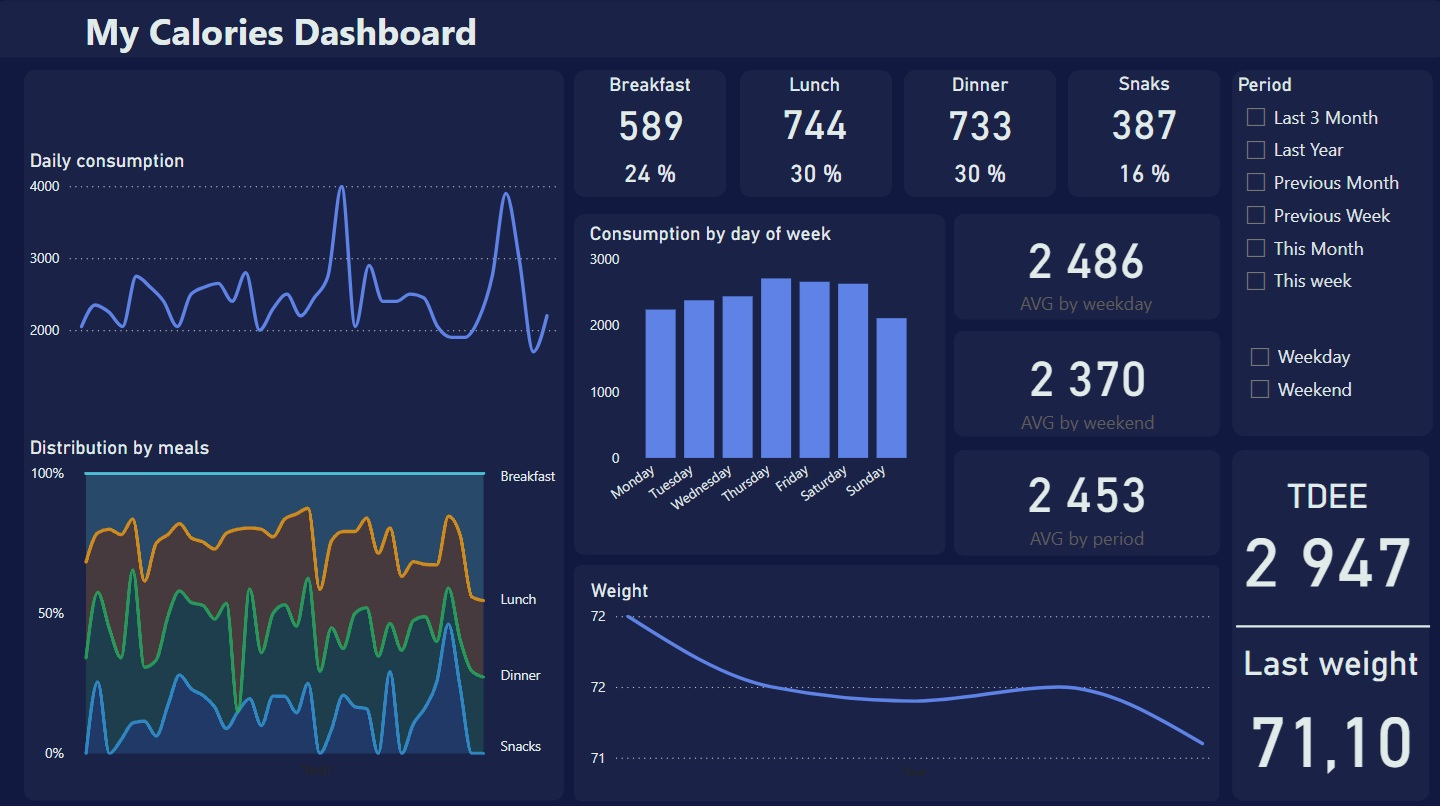

Layout of this report page (visuals, bound fields, positions):
{"tool":"powerbi","page":{"name":"Calories dashboard","canvas":[1280,720],"ordinal":0},"visuals":[{"type":"shape","box":[847.6,399.1,235.8,93.7],"z":0},{"type":"shape","box":[23.2,62.5,478.7,648.1],"z":1000},{"type":"shape","box":[1094.6,62.5,178.4,324.5],"z":2000},{"type":"shape","box":[511,189.5,329.6,302.4],"z":3000},{"type":"shape","box":[1094.6,399.1,175.4,311.4],"z":4000},{"type":"shape","box":[0,0,1280,51.4],"z":5000},{"type":"shape","box":[511,500.9,572.5,209.6],"z":6000},{"type":"shape","box":[847.6,189.5,235.8,93.7],"z":7000},{"type":"shape","box":[847.6,293.3,235.8,93.7],"z":8000},{"type":"shape","box":[948.4,62.5,135.1,112.9],"z":9000},{"type":"shape","box":[803.3,62.5,135.1,112.9],"z":10000},{"type":"shape","box":[658.1,62.5,135.1,112.9],"z":11000},{"type":"shape","box":[511,62.5,135.1,112.9],"z":12000},{"type":"lineChart","title":"Daily consumption","fields":{"Y":["Sum(Calories.daily_consumption)"],"Category":["Calendar.Date.Variation.Date Hierarchy.Year","Calendar.Date.Variation.Date Hierarchy.Quarter","Calendar.Date.Variation.Date Hierarchy.Month","Calendar.Date.Variation.Date Hierarchy.Day"]},"box":[23.2,132,478.7,198.6],"z":13000},{"type":"hundredPercentStackedAreaChart","title":"Distribution by meals","fields":{"Category":["Calendar.Date.Variation.Date Hierarchy.Year","Calendar.Date.Variation.Date Hierarchy.Quarter","Calendar.Date.Variation.Date Hierarchy.Month","Calendar.Date.Variation.Date Hierarchy.Day"],"Y":["Sum(Calories.snacks)","Sum(Calories.dinner)","Sum(Calories.lunch)","Avg(Calories.breakfast)"]},"box":[23.2,359.8,478.7,317.5],"z":14000},{"type":"columnChart","title":"Consumption by day of week","fields":{"Y":["Avg(Calories.daily_consumption)"],"Category":["Calendar.DayName"]},"box":[519.8,196.8,305.4,279.2],"z":15000},{"type":"lineChart","title":"Weight","fields":{"Y":["Avg(Weight.weight)"],"Category":["Calendar.Date.Variation.Date Hierarchy.Year","Calendar.Date.Variation.Date Hierarchy.Quarter","Calendar.Date.Variation.Date Hierarchy.Month","Calendar.Date.Variation.Date Hierarchy.Day"]},"box":[520.1,513,562.4,181.4],"z":16000},{"type":"card","fields":{"Values":["Measures (2).AVG by period"]},"box":[847.6,399.1,235.8,91.7],"z":17000},{"type":"card","title":"Last weight","fields":{"Values":["Measures (2).Last weight"]},"box":[1094.6,570.5,175.4,124],"z":18000},{"type":"card","fields":{"Values":["Measures (2).Breakfast share"]},"box":[511,132,135.1,43.3],"z":19000},{"type":"card","fields":{"Values":["Measures (2).Lunch share"]},"box":[658.1,131,135.1,44.3],"z":20000},{"type":"card","fields":{"Values":["Measures (2).dinner share"]},"box":[803.3,131,135.1,44.3],"z":21000},{"type":"card","fields":{"Values":["Measures (2).Snacks share"]},"box":[948.4,131,135.1,44.3],"z":22000},{"type":"card","title":"Breakfast","fields":{"Values":["Measures (2).Breakfast AVG"]},"box":[511,64.5,135.1,67.5],"z":23000},{"type":"card","title":"Lunch","fields":{"Values":["Measures (2).Lunch AVG"]},"box":[657.1,64.5,134,66.5],"z":24000},{"type":"card","title":"Snaks","fields":{"Values":["Measures (2).Snacks AVG"]},"box":[948.4,63.5,135.1,67.5],"z":25000},{"type":"card","title":"Dinner","fields":{"Values":["Measures (2).Dinner AVG"]},"box":[803.3,64.5,135.1,67.5],"z":26000},{"type":"slicer","title":"Period","fields":{"Values":["Time Periods.Period"]},"box":[1094.6,64.5,185.4,218.7],"z":27000},{"type":"slicer","fields":{"Values":["Calendar.PartOfWeek"]},"box":[1097.6,296.3,175.4,82.6],"z":28000},{"type":"card","fields":{"Values":["Measures (2).AVG by weekday"]},"box":[847.7,190.6,234.1,92.2],"z":29000},{"type":"card","fields":{"Values":["Measures (2).AVG by weekend"]},"box":[850.6,296.3,231.8,90.7],"z":30000},{"type":"card","title":"TDEE","fields":{"Values":["Measures (2).TDEE"]},"box":[1091.5,422.3,174.4,102.8],"z":31000},{"type":"shape","box":[1097.6,545.3,172.3,20.2],"z":32000},{"type":"textbox","box":[0,0,501.9,73.6],"z":33000}]}

Visuals, with their boxes in screenshot pixels (x1, y1, x2, y2), scaled from the page's 1280x720 canvas onto the 1440x806 screenshot:
shape: Rect(954, 447, 1219, 552)
shape: Rect(26, 70, 565, 795)
shape: Rect(1231, 70, 1432, 433)
shape: Rect(575, 212, 946, 551)
shape: Rect(1231, 447, 1429, 795)
shape: Rect(0, 0, 1439, 58)
shape: Rect(575, 561, 1219, 795)
shape: Rect(954, 212, 1219, 317)
shape: Rect(954, 328, 1219, 433)
shape: Rect(1067, 70, 1219, 196)
shape: Rect(904, 70, 1056, 196)
shape: Rect(740, 70, 892, 196)
shape: Rect(575, 70, 727, 196)
"Daily consumption" lineChart: Rect(26, 148, 565, 370)
"Distribution by meals" hundredPercentStackedAreaChart: Rect(26, 403, 565, 758)
"Consumption by day of week" columnChart: Rect(585, 220, 928, 533)
"Weight" lineChart: Rect(585, 574, 1218, 777)
card - Measures (2).AVG by period: Rect(954, 447, 1219, 549)
"Last weight" card: Rect(1231, 639, 1429, 777)
card - Measures (2).Breakfast share: Rect(575, 148, 727, 196)
card - Measures (2).Lunch share: Rect(740, 147, 892, 196)
card - Measures (2).dinner share: Rect(904, 147, 1056, 196)
card - Measures (2).Snacks share: Rect(1067, 147, 1219, 196)
"Breakfast" card: Rect(575, 72, 727, 148)
"Lunch" card: Rect(739, 72, 890, 147)
"Snaks" card: Rect(1067, 71, 1219, 147)
"Dinner" card: Rect(904, 72, 1056, 148)
"Period" slicer: Rect(1231, 72, 1439, 317)
slicer - Calendar.PartOfWeek: Rect(1235, 332, 1432, 424)
card - Measures (2).AVG by weekday: Rect(954, 213, 1217, 317)
card - Measures (2).AVG by weekend: Rect(957, 332, 1218, 433)
"TDEE" card: Rect(1228, 473, 1424, 588)
shape: Rect(1235, 610, 1429, 633)
textbox: Rect(0, 0, 565, 82)
